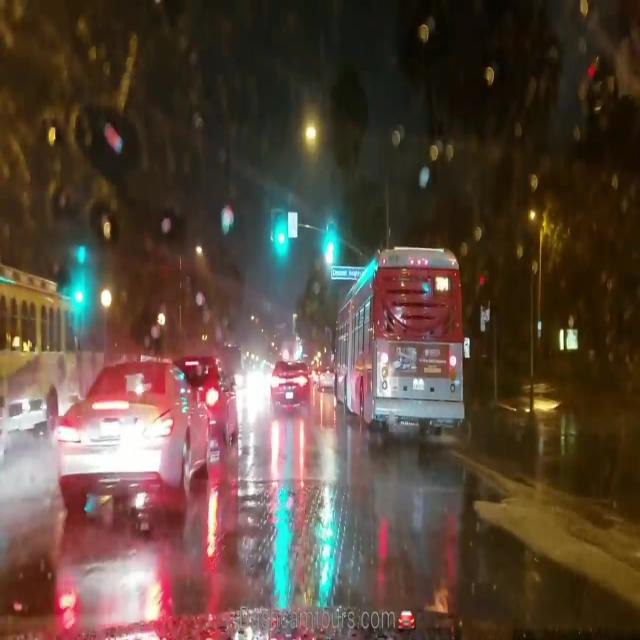Car: (56, 366, 209, 511), (269, 360, 310, 417)
